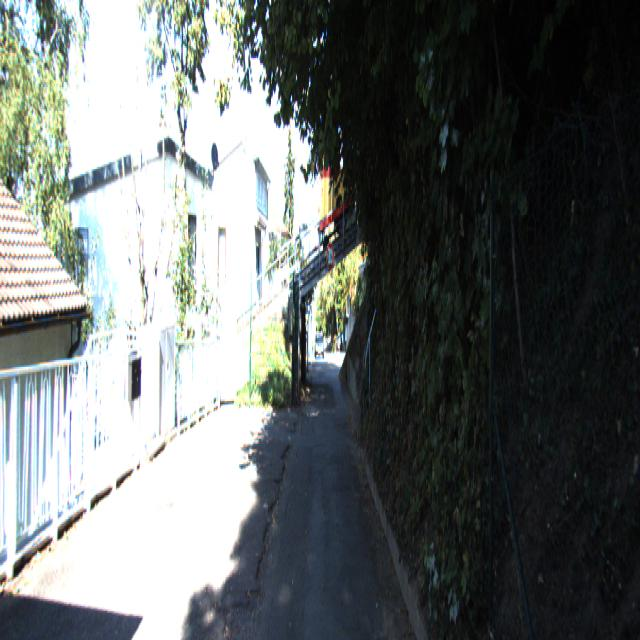Car: (314, 329, 324, 358)
